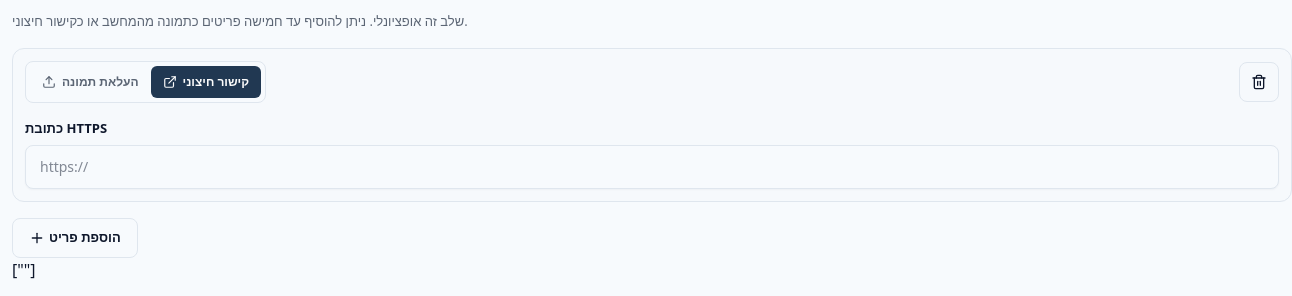
Test case: SupplierPortfolioEditor › shows exactly one source control at a time
Expected: the field labelled "כתובת HTTPS" is shown, [25,144,1279,188]
Expected: the field labelled "בחירת תמונה" is not shown
Step 1. Click the button "העלאת תמונה" → (90, 82), box [30,66,150,98]
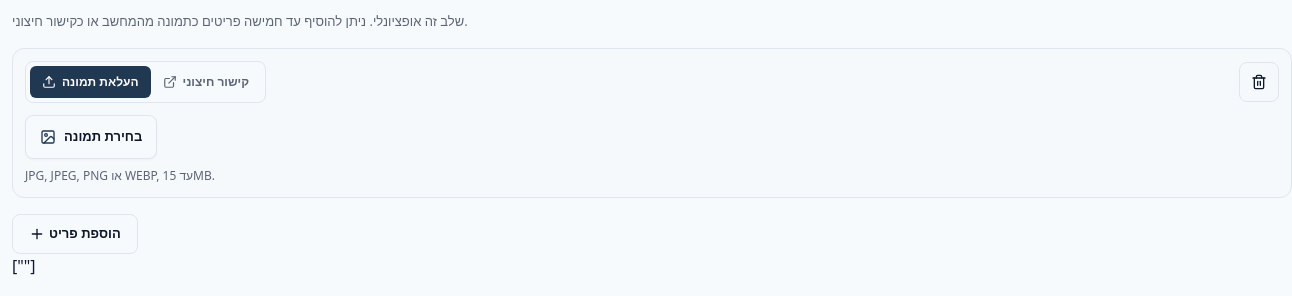
Now the file field labelled "בחירת תמונה" is shown, box [25,114,157,158]
Now the label labelled "כתובת HTTPS" is gone
